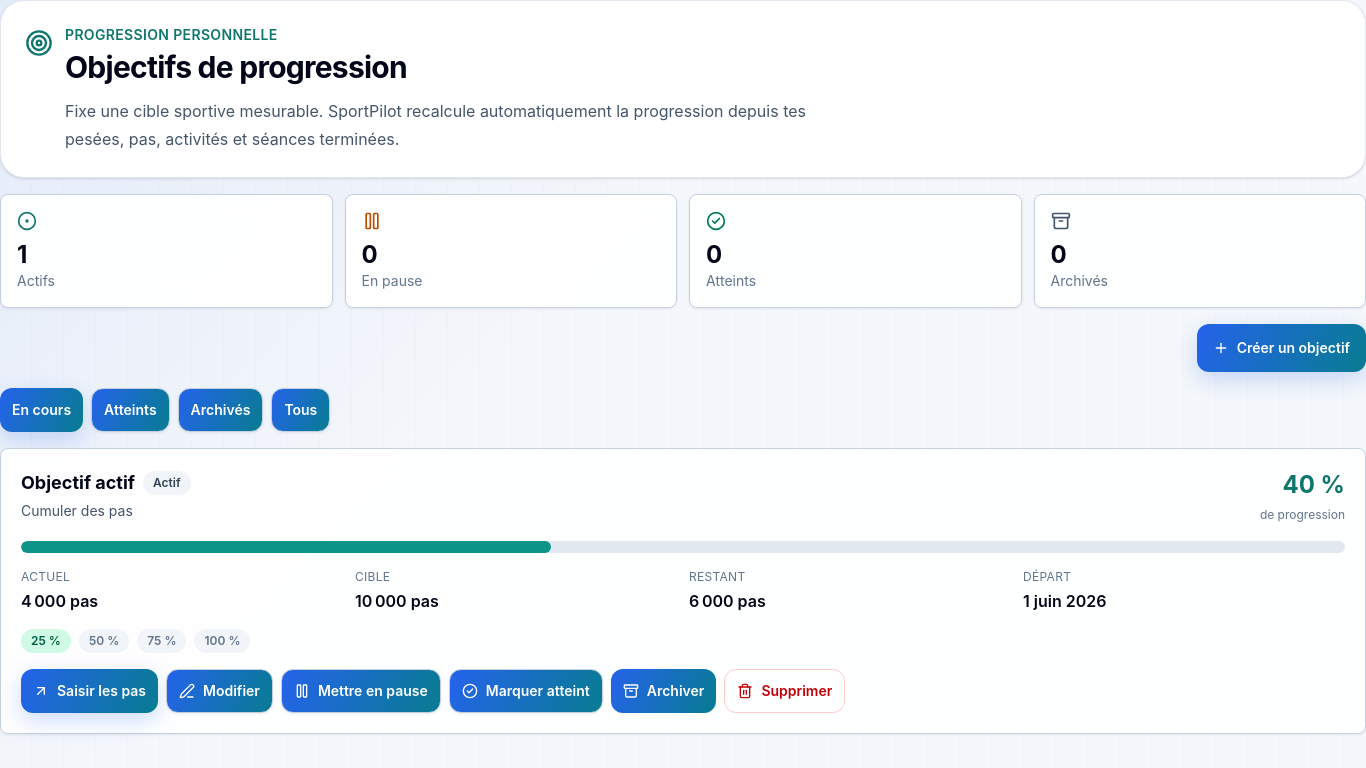
GoalsPage › ouvre la modification dans une surface dédiée sans formulaire inline
Check: the heading "Objectif actif" is shown, box [21,469,135,497]
Check: the field labelled "Nom personnalisé" is not shown
Step 1. Click the button "Modifier" → click(219, 691), box [166,669,273,713]
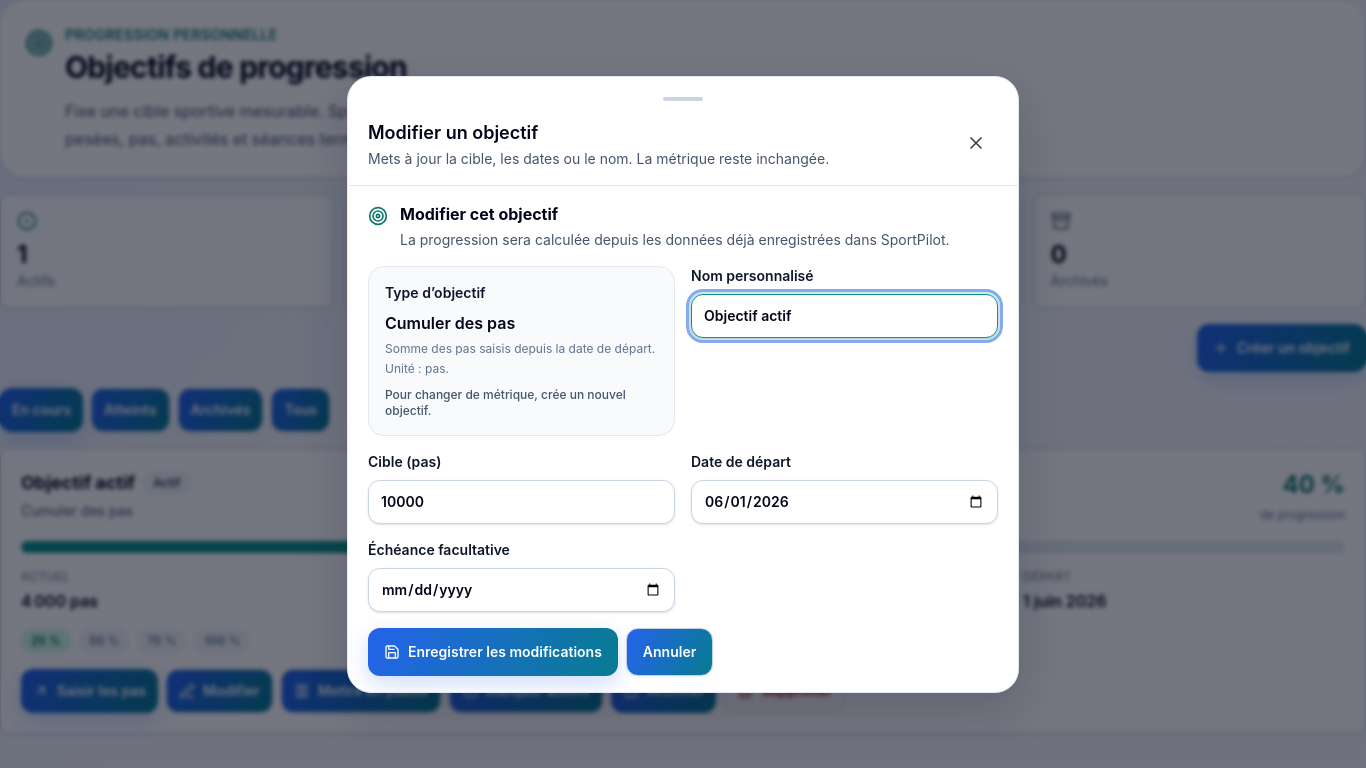
Check: the dialog "Modifier un objectif" is shown, box [347,76,1019,692]
Check: the field labelled "Nom personnalisé" holds "Objectif actif", box [691,294,998,338]
Check: the text "Pour changer de métrique, crée un nouvel objectif." is shown, box [385,386,658,418]
